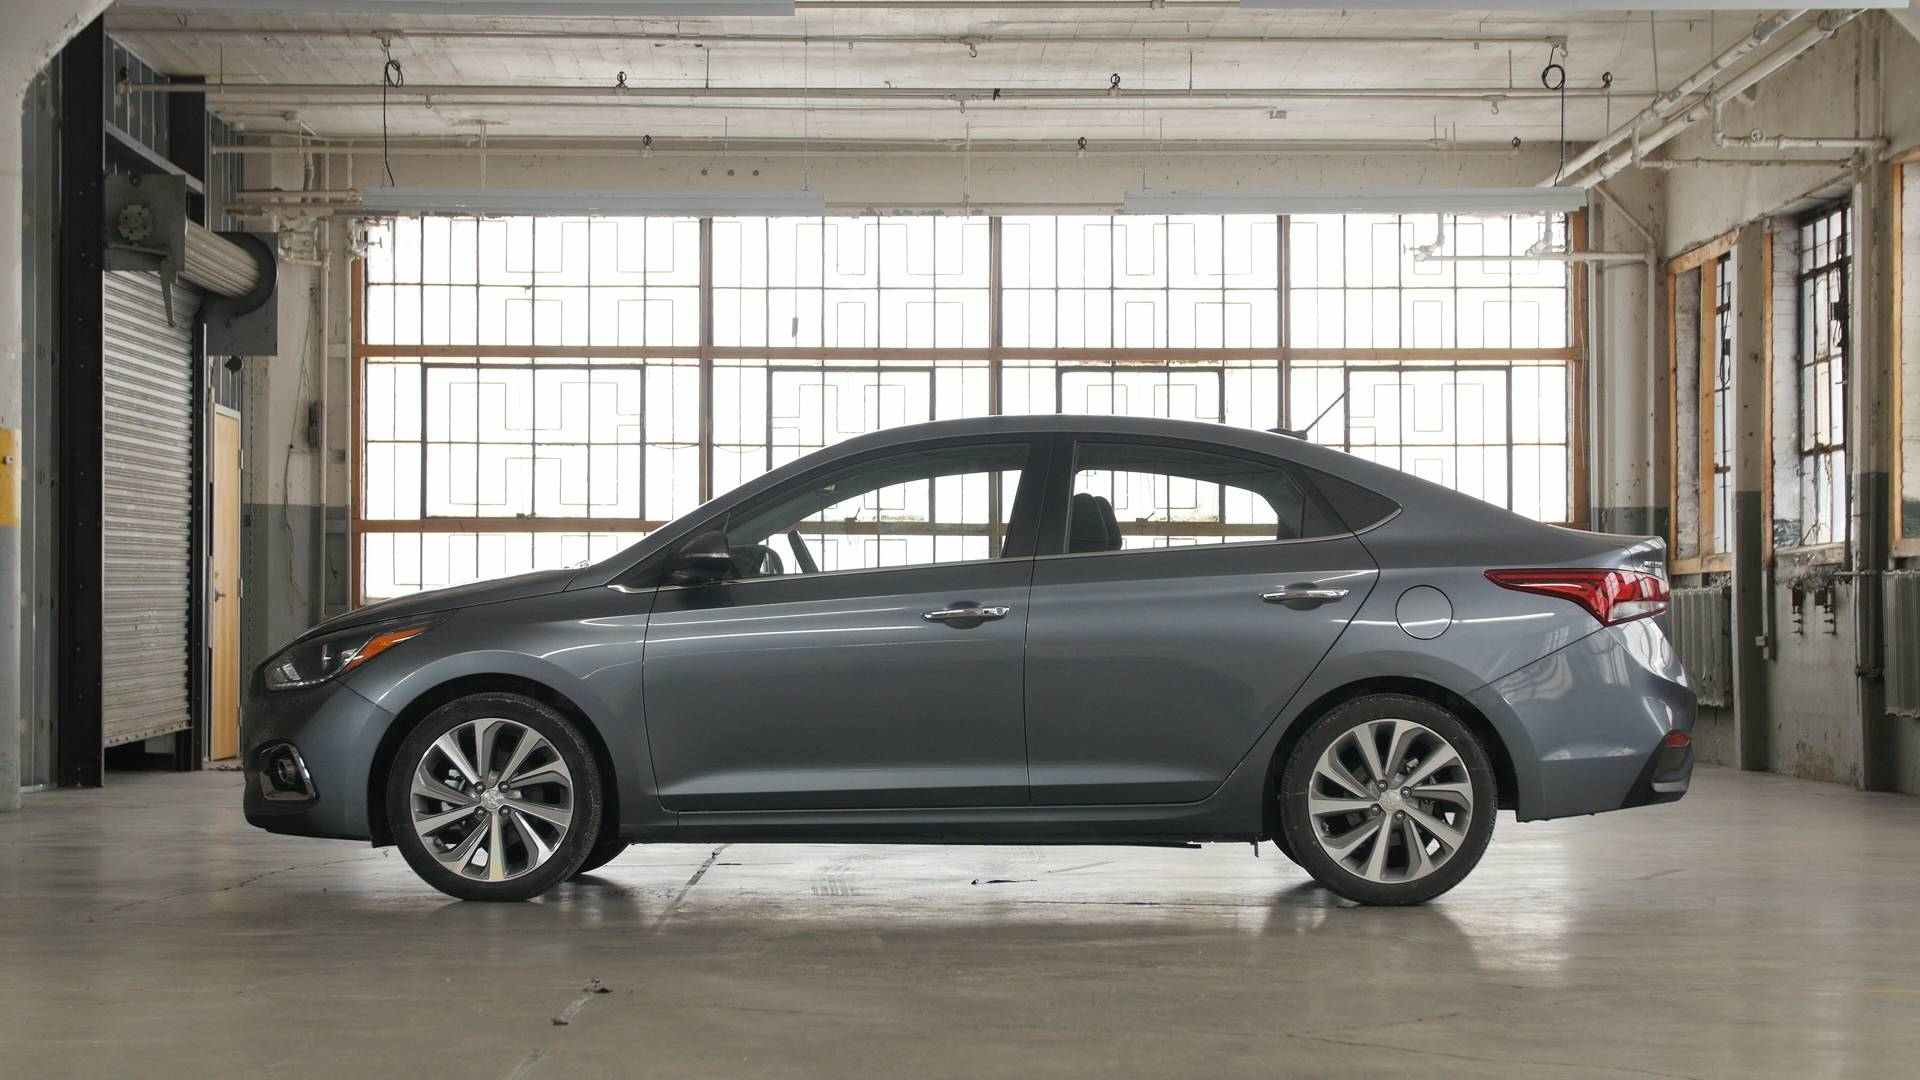accent: (182, 388, 1738, 959)
